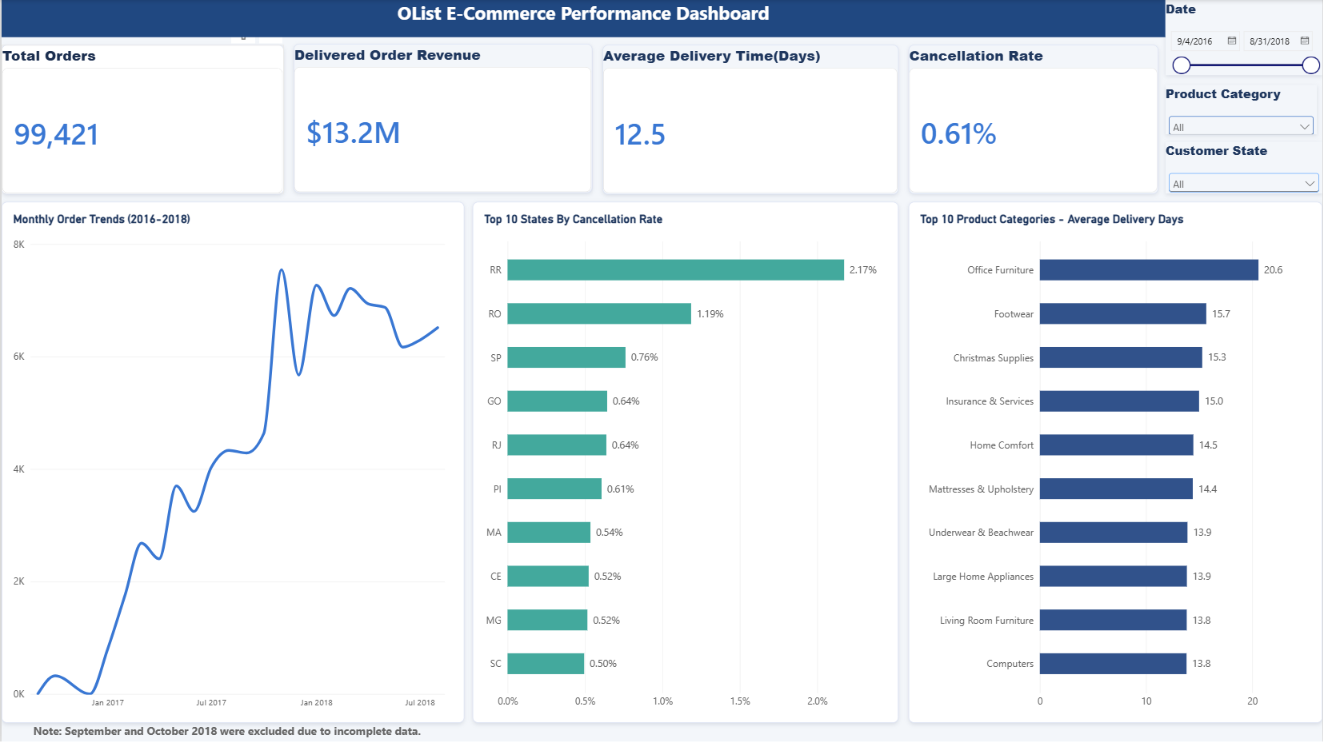

What the dashboard file says about the page in this screenshot:
{"tool":"powerbi","page":{"name":"Orders_Overview","canvas":[1920,1080],"ordinal":0},"visuals":[{"type":"cardVisual","title":"Total Orders","fields":{"Data":["orders_202503150951.Total Orders"]},"box":[0,64.8,410.6,217.7],"z":0},{"type":"cardVisual","title":"Delivered Order Revenue","fields":{"Data":["order_items_202503150951.Revenue"]},"box":[425,64.7,434.3,217.1],"z":1000},{"type":"cardVisual","title":"Average Delivery  Time(Days)","fields":{"Data":["orders_202503150951.Average Delivery Days"]},"box":[873.7,64.8,430.7,217.7],"z":2000},{"type":"cardVisual","title":"Cancellation Rate","fields":{"Data":["orders_202503150951.Cancellation Rate"]},"box":[1318.7,65.4,363.5,216.6],"z":3000},{"type":"lineChart","title":"Monthly Order Trends (2016-2018)","fields":{"Category":["Date N.Month Start"],"Y":["orders_202503150951.Total Orders"]},"box":[0,295,675,785],"z":4000},{"type":"clusteredBarChart","title":"Top 10 States By Cancellation Rate ","fields":{"Category":["customers_202503150948 (2).customer_state"],"Y":["orders_202503150951.Cancellation Rate"]},"box":[684.8,293.7,619.4,757.5],"z":5000},{"type":"clusteredBarChart","title":"Top 10 Product Categories - Average Delivery Days ","fields":{"Category":["products_202503150952.product_category_name - english"],"Y":["orders_202503150951.Average Delivery Days"]},"box":[1318.7,293.7,601.9,757.5],"z":6000},{"type":"slicer","title":"Customer State","fields":{"Values":["customers_202503150948 (2).customer_state"]},"box":[1692.4,206.4,227.9,75.5],"z":7000},{"type":"slicer","title":"Product Category","fields":{"Values":["products_202503150952.product_category_name - english"]},"box":[1692.4,123.2,220.2,72.4],"z":8000},{"type":"slicer","title":"Date","fields":{"Values":["Date.Date"]},"box":[1692.4,0,227.9,109.3],"z":9000},{"type":"textbox","box":[0,0,1691.9,54],"z":10000},{"type":"textbox","box":[0,1051.8,702.2,29.3],"z":11000}]}

Visuals, with their boxes in screenshot pixels (x1, y1, x2, y2), scaled from the page's 1920x1080 canvas onto the 1323x742 screenshot:
"Total Orders" cardVisual: 0 45 283 194
"Delivered Order Revenue" cardVisual: 293 44 592 194
"Average Delivery  Time(Days)" cardVisual: 602 45 899 194
"Cancellation Rate" cardVisual: 909 45 1159 194
"Monthly Order Trends (2016-2018)" lineChart: 0 203 465 741
"Top 10 States By Cancellation Rate " clusteredBarChart: 472 202 899 722
"Top 10 Product Categories - Average Delivery Days " clusteredBarChart: 909 202 1322 722
"Customer State" slicer: 1166 142 1322 194
"Product Category" slicer: 1166 85 1318 134
"Date" slicer: 1166 0 1322 75
textbox: 0 0 1166 37
textbox: 0 723 484 741
